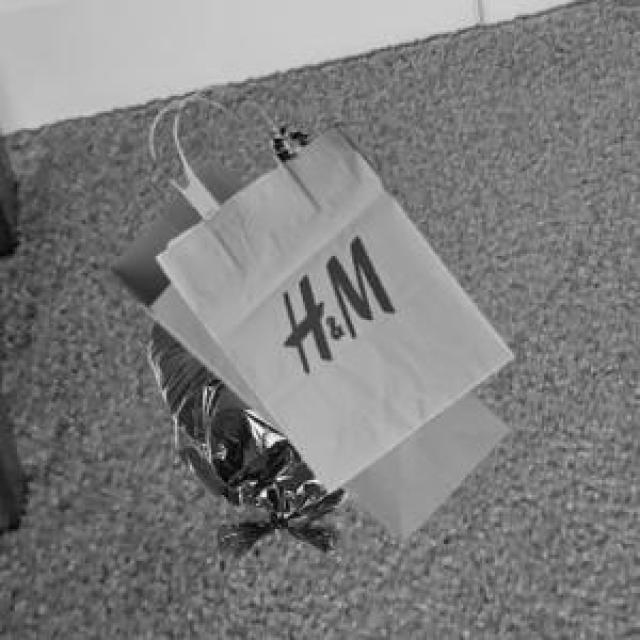miscellaneous trash: (145, 318, 344, 555)
paper: (107, 156, 506, 538), (147, 90, 510, 489)
